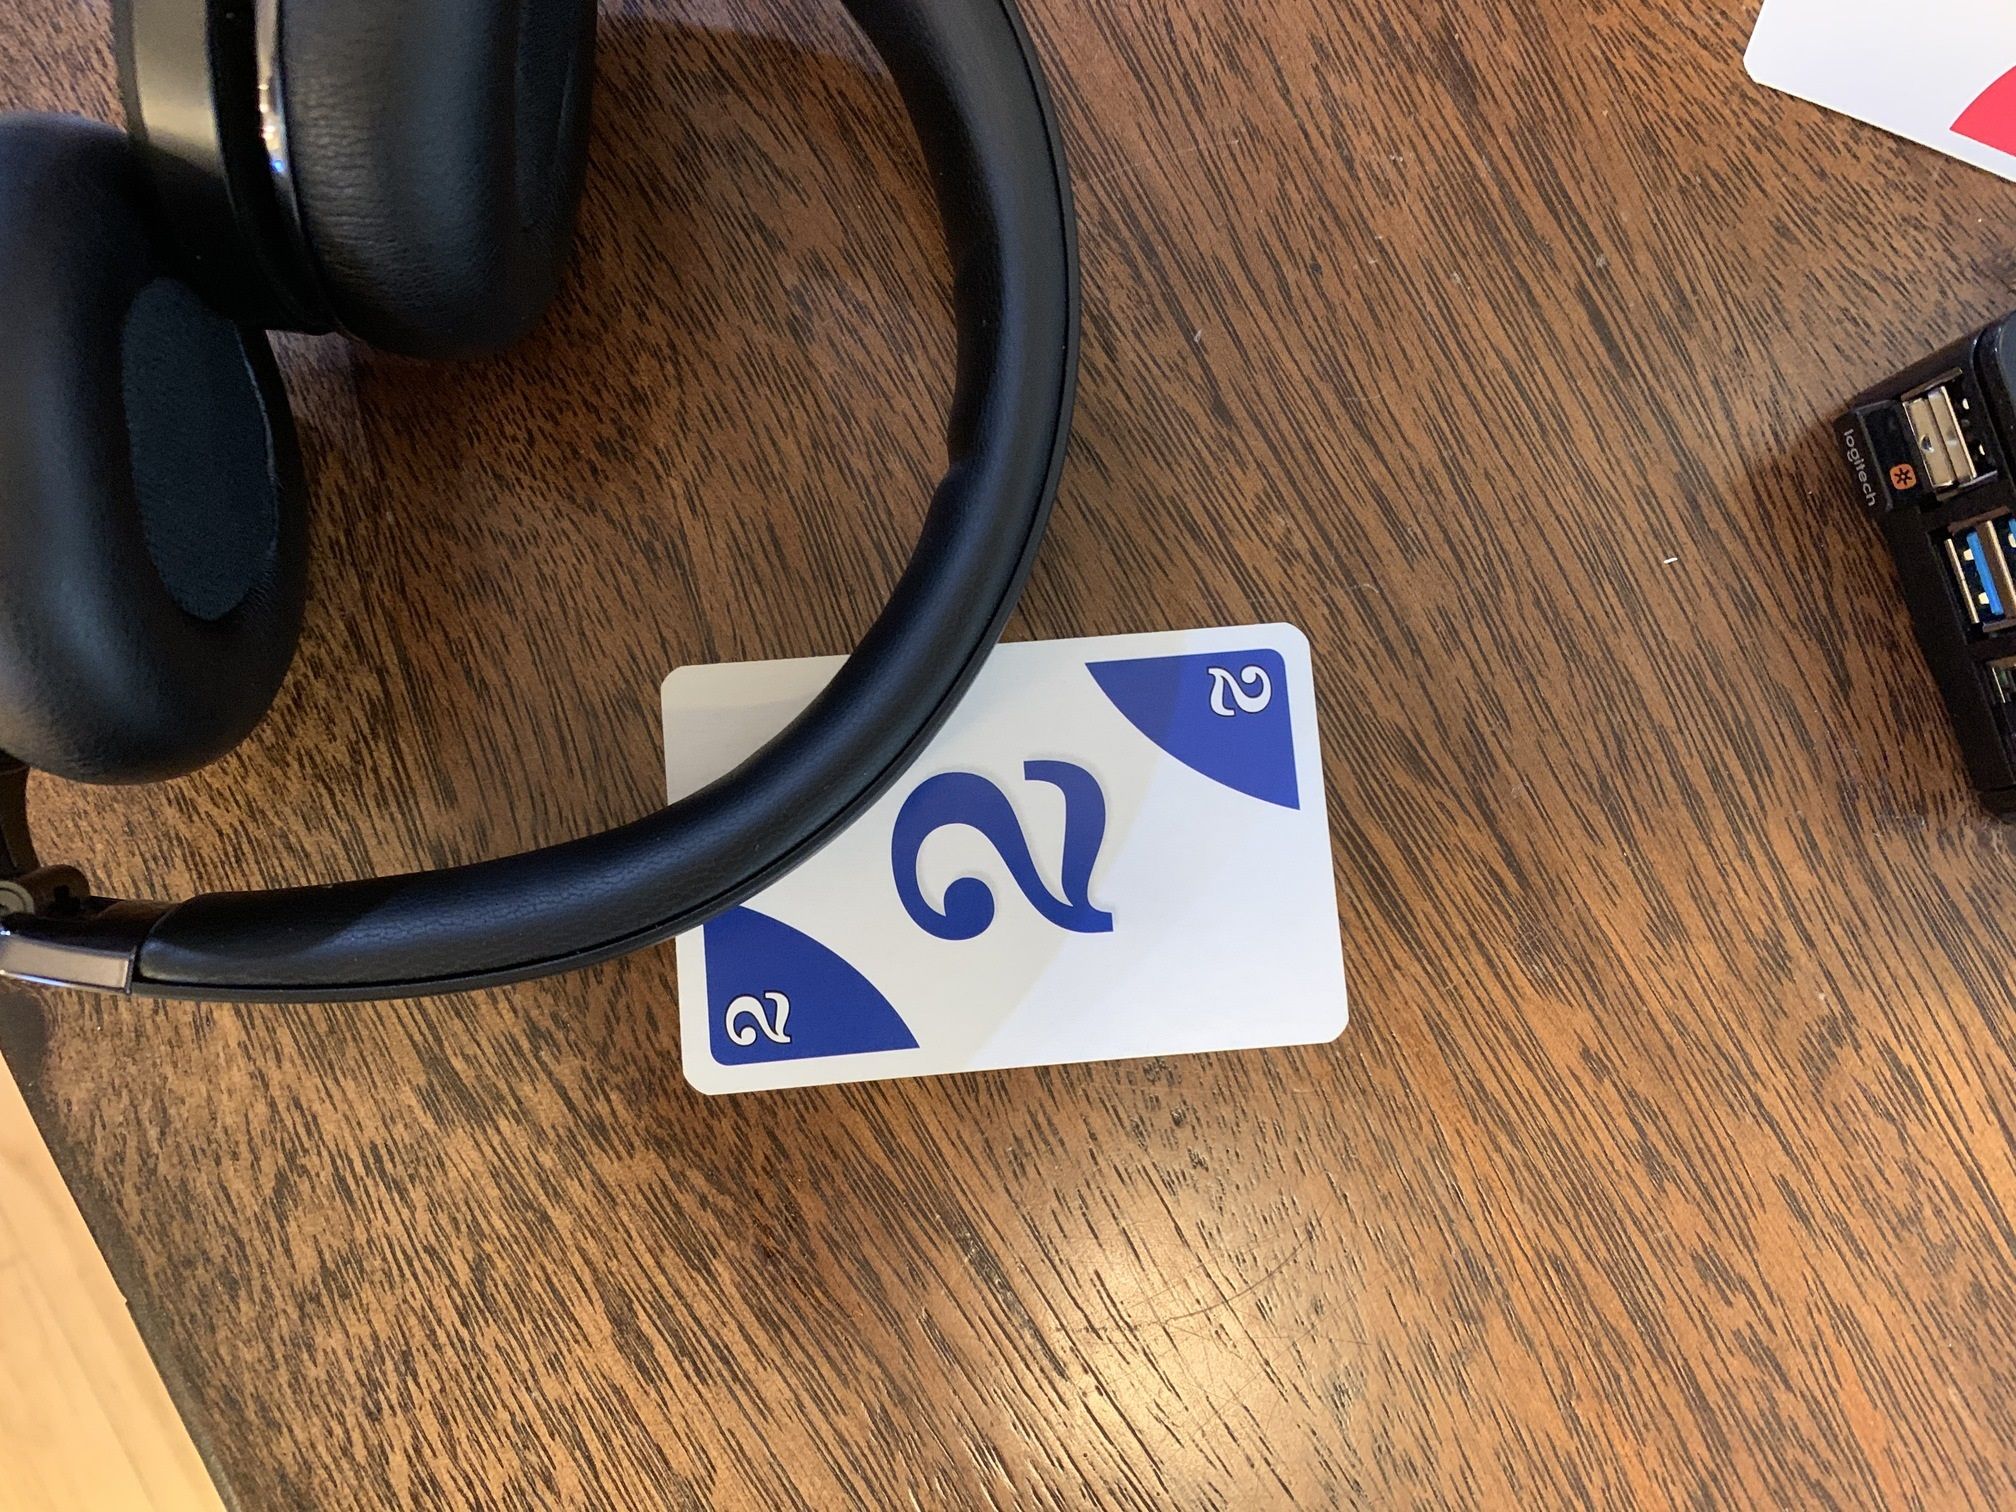two: (652, 627, 1356, 1099)
